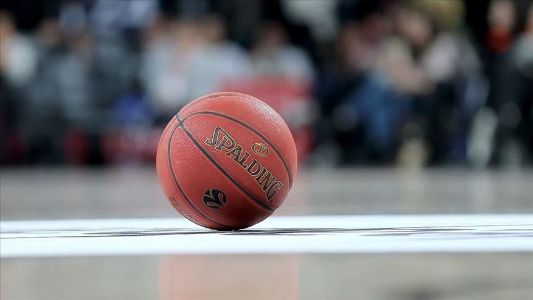baloncesto: (156, 93, 297, 231)
